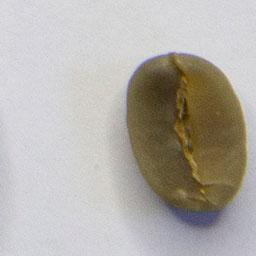premium: (121, 48, 251, 215)
